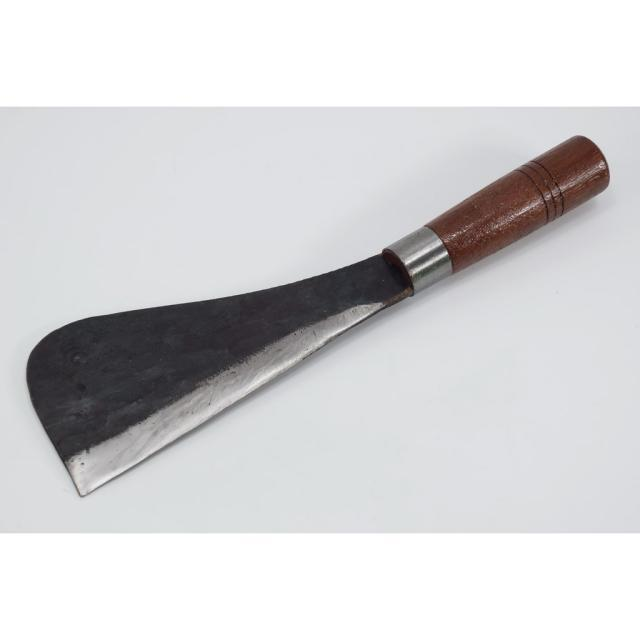eto: (17, 132, 625, 511)
